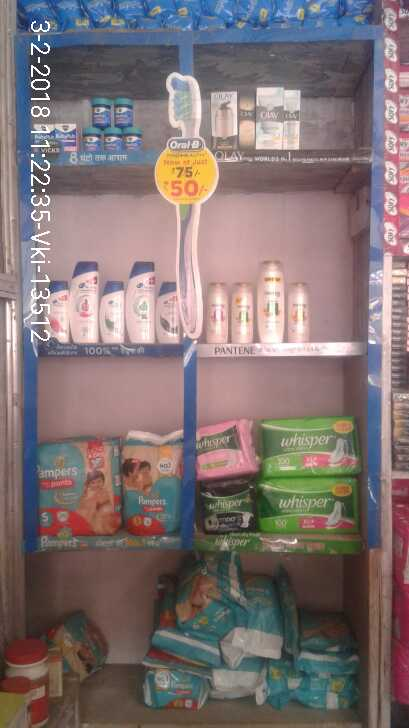vicks: (19, 84, 140, 170)
